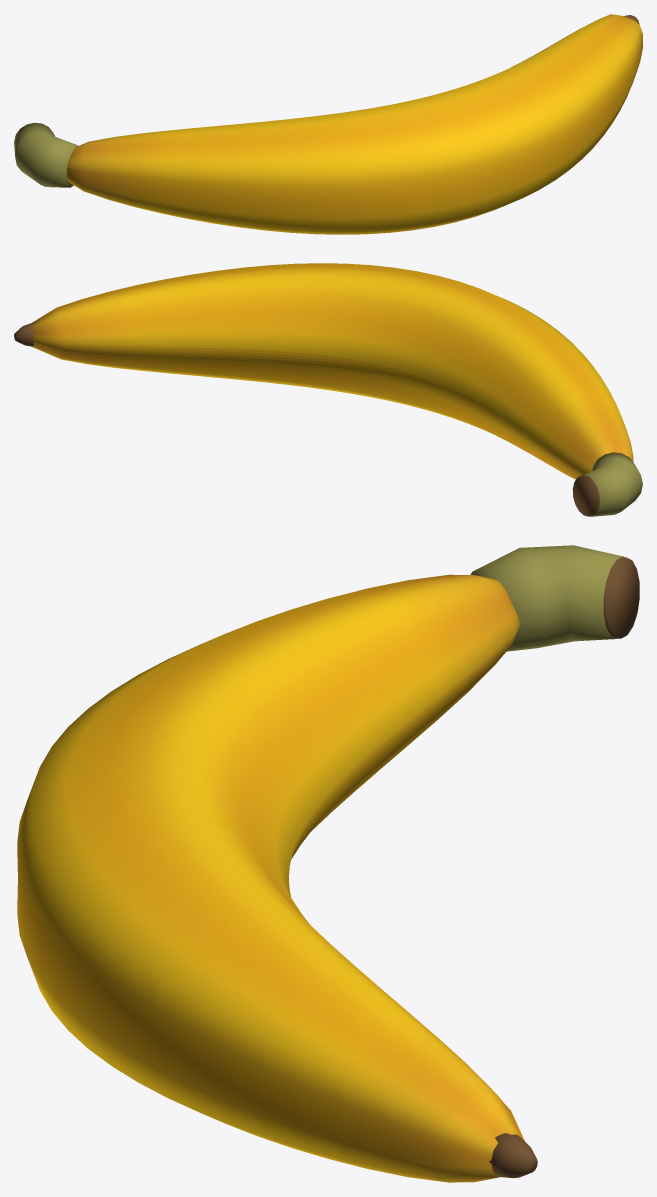
The model's file is banana.fbx.
3 views of the same model, one above another, from view 1: azimuth 30°, elevation 25°; view 2: azimuth 150°, elevation 25°; view 3: azimuth 270°, elevation 25° (orthographic). The views are drawn at different scales.
Parts seen in each view (by area): view 1: curved-peel, stem; view 2: curved-peel, stem, stem-cut; view 3: curved-peel, stem, stem-cut, blossom-tip.
Boxes of the visible parts, x1=… form: curved-peel: x1=67, y1=14, x2=642, y2=234; stem: x1=14, y1=123, x2=78, y2=187; curved-peel: x1=32, y1=263, x2=633, y2=479; stem: x1=584, y1=452, x2=642, y2=516; stem-cut: x1=572, y1=474, x2=599, y2=516; curved-peel: x1=17, y1=574, x2=524, y2=1182; stem: x1=470, y1=545, x2=623, y2=651; stem-cut: x1=603, y1=556, x2=639, y2=638; blossom-tip: x1=489, y1=1133, x2=537, y2=1178.
Bounding box in the file's own units: 100 × 17.83 × 44.42.
Materials: 3 (1 with a texture image).
